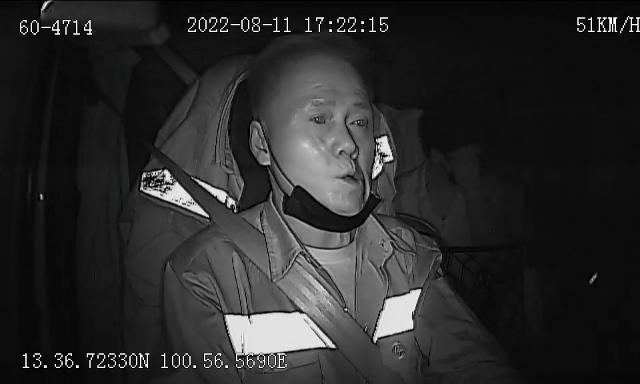SafeDriving: (344, 106, 376, 135), (304, 104, 338, 130)
Seatbelt: (144, 142, 398, 384)
